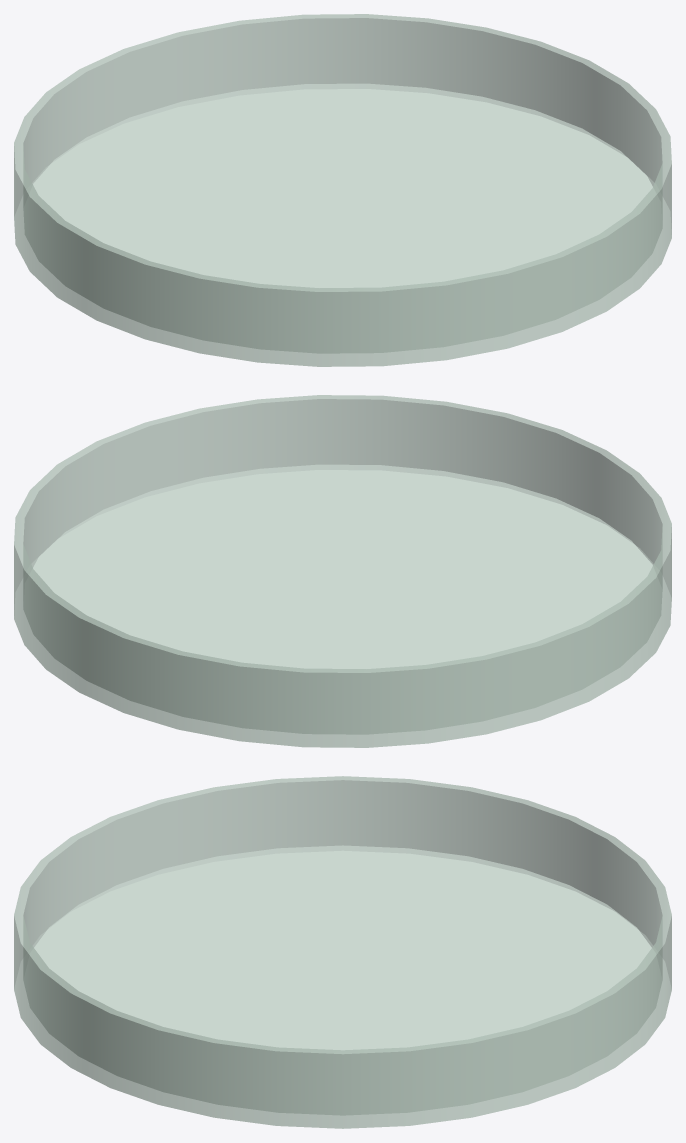
The model's file is BowlPetri001.FBX.
3 views of the same model, one above another, from view 1: azimuth 30°, elevation 25°; view 2: azimuth 150°, elevation 25°; view 3: azimuth 270°, elevation 25° (orthographic).
Visible parts, largest first — view 1: PetriBowl; view 2: PetriBowl; view 3: PetriBowl.
Part boxes in pixels (left/top/right/bottom): PetriBowl: left=14, top=14, right=671, bottom=366; PetriBowl: left=14, top=395, right=671, bottom=747; PetriBowl: left=14, top=776, right=671, bottom=1128.
Bounding box in the file's own units: 114 × 14.31 × 114.
